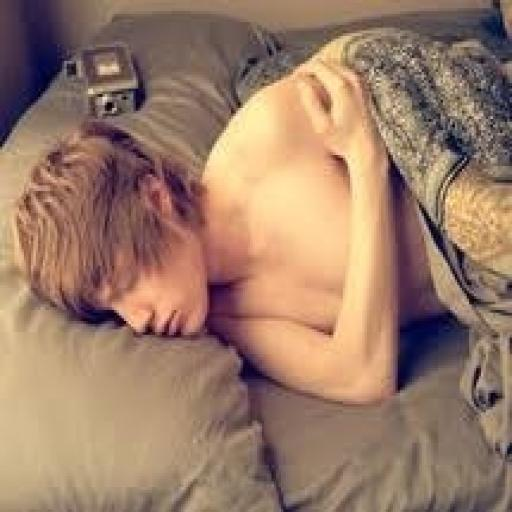sleeping: (10, 0, 510, 509)
